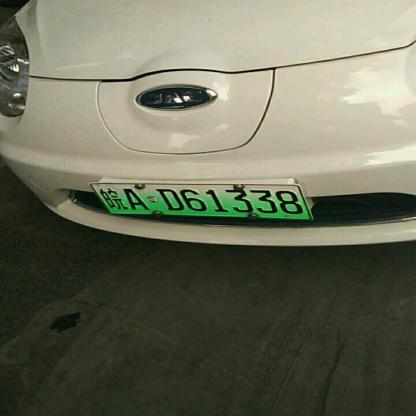lp: (92, 184, 311, 217)
